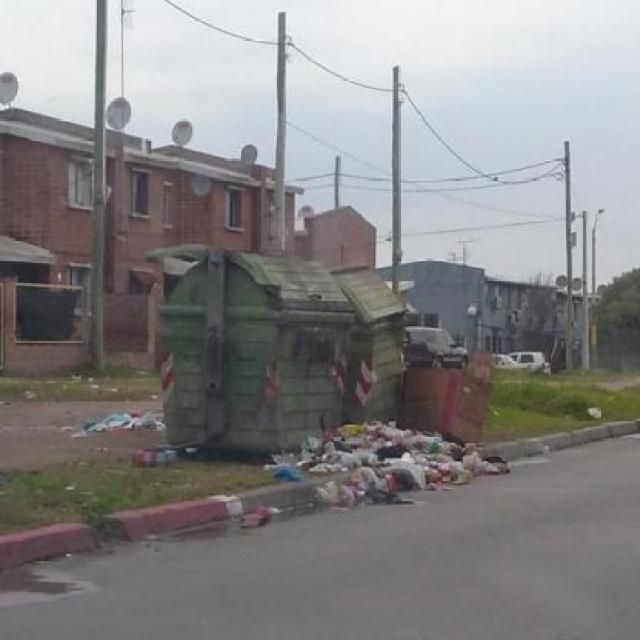garbage: (277, 402, 526, 525), (59, 386, 186, 493), (226, 500, 304, 548), (563, 394, 619, 426)
